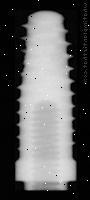Biomet 3i: (15, 10, 77, 190)
